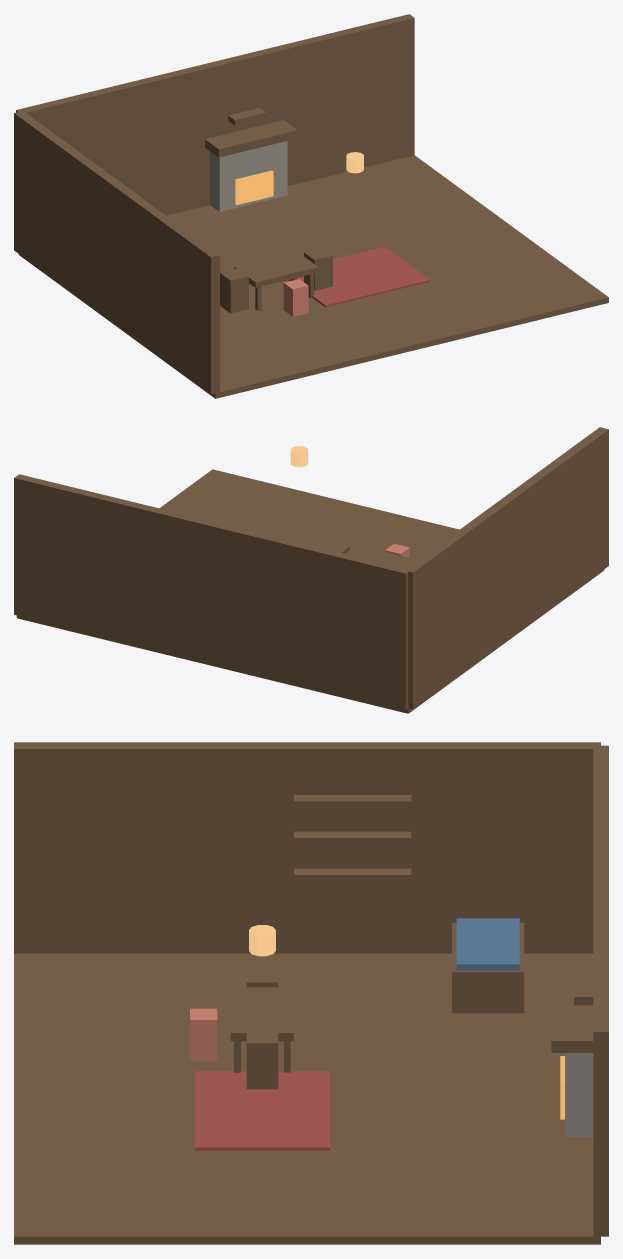
3 renders of one model, top to bottom at view 1: azimuth 30°, elevation 25°; view 2: azimuth 150°, elevation 25°; view 3: azimuth 270°, elevation 25°, orthographic. The views are drawn at different scales.
Visible parts, largest first — view 1: walk_floor.001, wall_back.001, wall_left.001, walk_hearthrug, hearth.001, mantel.001, table_top.001, chair.002, fire_glow.001, stool.001, chair.003; view 2: wall_back.001, wall_left.001, walk_floor.001, table_top.001; view 3: walk_floor.001, wall_left.001, walk_hearthrug, wall_back.001, bed.001, quilt.001, table_top.001, mantel.001, hearth.001, chair.003, shelf.004, shelf.003 (+3 smaller).
Part boxes in pixels (x1=…): walk_floor.001: x1=18, y1=155, x2=608, y2=398; wall_back.001: x1=16, y1=14, x2=414, y2=215; wall_left.001: x1=14, y1=112, x2=219, y2=394; walk_hearthrug: x1=288, y1=246, x2=430, y2=307; hearth.001: x1=210, y1=141, x2=287, y2=211; mantel.001: x1=205, y1=120, x2=297, y2=157; table_top.001: x1=234, y1=251, x2=318, y2=287; chair.002: x1=220, y1=268, x2=248, y2=313; fire_glow.001: x1=235, y1=170, x2=273, y2=204; stool.001: x1=283, y1=279, x2=308, y2=316; chair.003: x1=304, y1=248, x2=332, y2=290; wall_back.001: x1=14, y1=474, x2=410, y2=710; wall_left.001: x1=405, y1=427, x2=608, y2=709; walk_floor.001: x1=16, y1=469, x2=604, y2=713; table_top.001: x1=345, y1=545, x2=417, y2=568; walk_floor.001: x1=14, y1=953, x2=600, y2=1244; wall_left.001: x1=14, y1=742, x2=600, y2=953; walk_hearthrug: x1=194, y1=1071, x2=329, y2=1150; wall_back.001: x1=593, y1=745, x2=608, y2=1236; bed.001: x1=452, y1=922, x2=524, y2=1013; quilt.001: x1=456, y1=918, x2=519, y2=970; table_top.001: x1=230, y1=987, x2=293, y2=1041; mantel.001: x1=551, y1=983, x2=593, y2=1052; hearth.001: x1=565, y1=1053, x2=593, y2=1137; chair.003: x1=246, y1=1030, x2=278, y2=1089; shelf.004: x1=294, y1=831, x2=411, y2=844; shelf.003: x1=294, y1=868, x2=411, y2=880.
Bounding box in the file's own units: 15.17 × 5.2 × 13.17.
